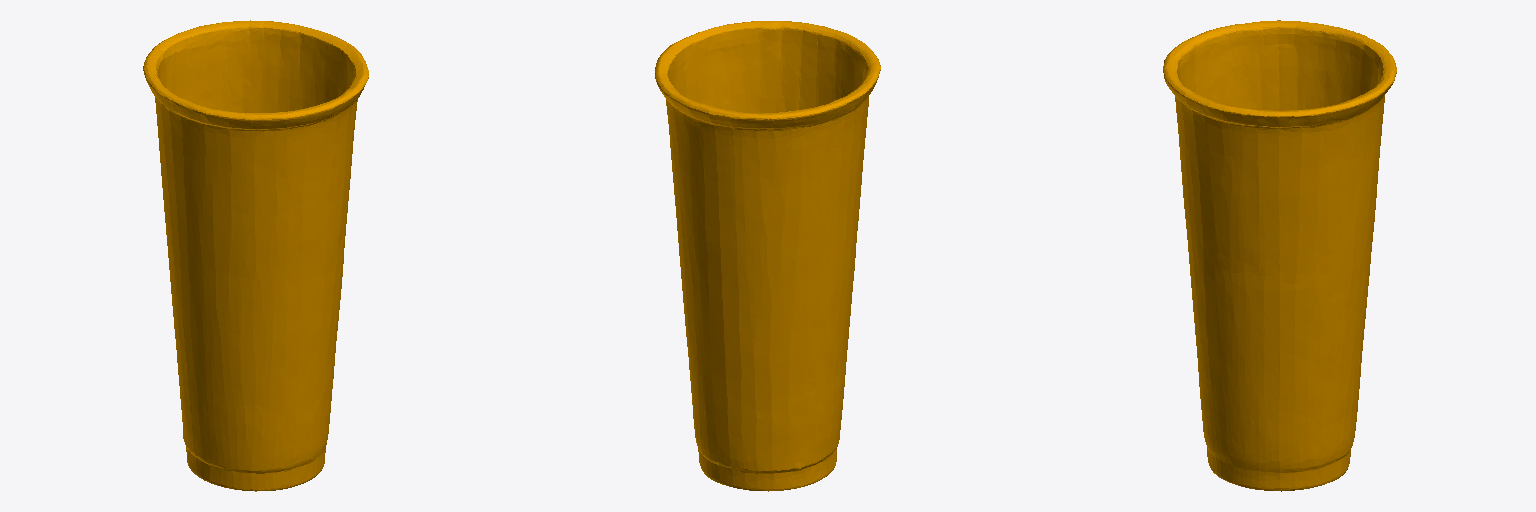
robot.urdf — sample:
<?xml version="1.0" ?>
<robot name="sample">
   <link name="sample">
      <visual>
         <origin xyz="0 0 0" rpy="1.5708 0.0 0.0"/>
         <geometry>
            <mesh filename="mesh/sample.obj" scale="1.0 1.0 1.0"/>
         </geometry>
      </visual>
      <collision>
         <origin xyz="0 0 0" rpy="1.5708 0.0 0.0"/>
         <geometry>
            <mesh filename="mesh/sample_collision.obj" scale="1.0 1.0 1.0"/>
         </geometry>
         <gazebo>
            <mu1>0.40</mu1>
            <mu2>0.30</mu2>
         </gazebo>
      </collision>
      <inertial>
         <mass value="0.1500"/>
         <origin xyz="0 0 0"/>
         <inertia ixx="1.0" ixy="0.0" ixz="0.0" iyy="1.0" iyz="0.0" izz="1.0"/>
      </inertial>
      <extra_info>
         <scale>0.175000</scale>
         <version>v0.1.7</version>
         <category>bottle drink</category>
         <description>yellow plastic cup with black boba pearls at bottom</description>
         <min_height>0.15</min_height>
         <max_height>0.2</max_height>
         <real_height>0.175</real_height>
         <min_mass>0.1</min_mass>
         <max_mass>0.2</max_mass>
         <color>yellow</color>
         <rgba>[1.0, 1.0, 0.0, 1.0]</rgba>
         <generate_time>20260526163855</generate_time>
         <gs_model>mesh/sample_gs.ply</gs_model>
      </extra_info>
   </link>
   <custom_data>
      <quality>
         <MeshGeoChecker>YES</MeshGeoChecker>
         <ImageSegChecker>NO, object is not centered and background artifacts remain.</ImageSegChecker>
         <ImageAestheticChecker>4.85088038444519</ImageAestheticChecker>
         <overall>NO</overall>
      </quality>
   </custom_data>
</robot>

--- Facts derived from the render (not from the file) ---
Views: 3 orthographic renders of the robot side by side, from view 1: azimuth 30°, elevation 25°; view 2: azimuth 150°, elevation 25°; view 3: azimuth 270°, elevation 25°.
Model sample with 1 links and 0 joints (none), rooted at sample, posed every joint at zero.
Visible links, largest first — view 1: sample; view 2: sample; view 3: sample.
Boxes of the visible links, bbox=[...] form: sample: bbox=[143, 20, 368, 491]; sample: bbox=[655, 21, 880, 491]; sample: bbox=[1163, 20, 1396, 491].
Bounding box of the posed robot: 0.0902 × 0.0937 × 0.175 m (x, y, z).
1 mesh visuals loaded from 1 distinct referenced files (1 OBJ).
